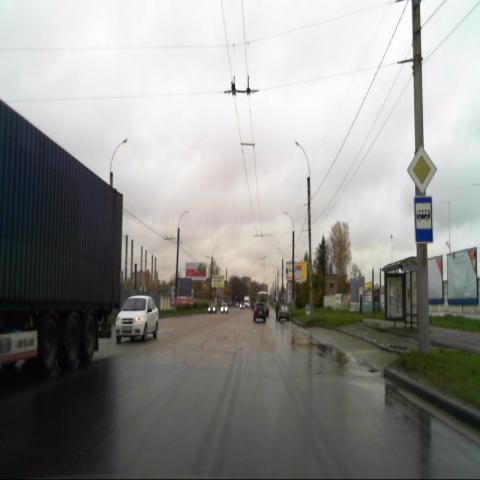2_1: (407, 147, 436, 195)
